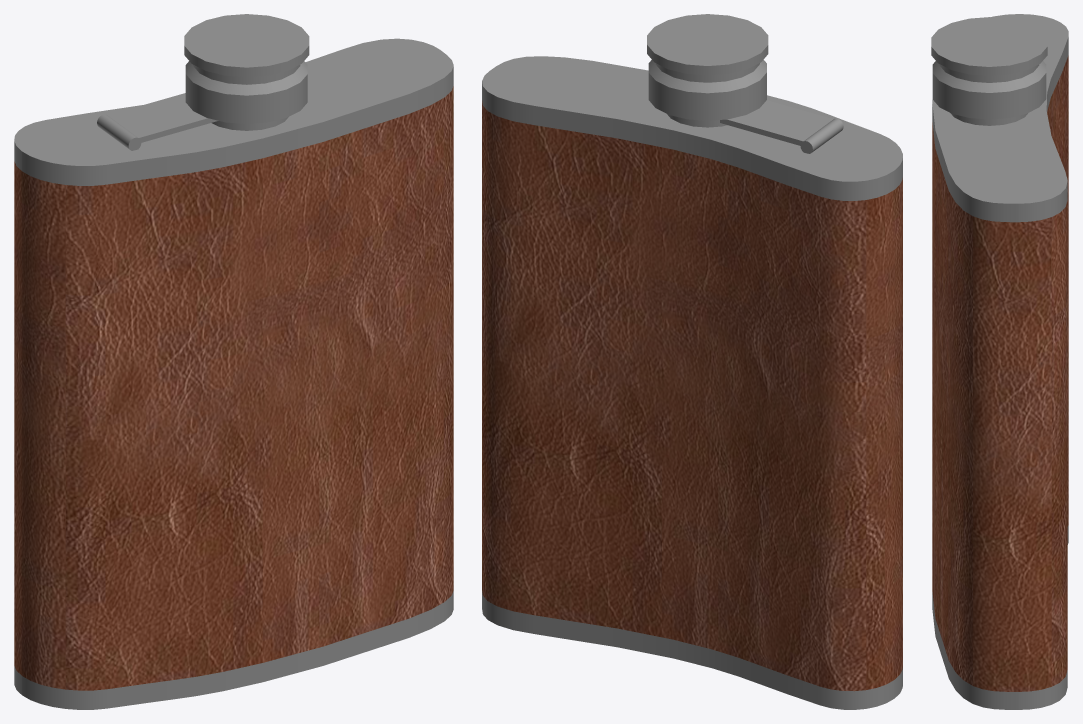
The model's file is Liqueur.FBX.
The picture shows the model from 3 angles, left to right: view 1: azimuth 30°, elevation 25°; view 2: azimuth 150°, elevation 25°; view 3: azimuth 270°, elevation 25°; orthographic projection. The views are drawn at different scales.
Visible parts, largest first — view 1: liqueur; view 2: liqueur; view 3: liqueur.
Part boxes in pixels (<box>): liqueur: <box>14,14,453,709</box>; liqueur: <box>482,14,902,709</box>; liqueur: <box>931,14,1068,709</box>.
Size of the model in its own units: 10.17 by 14.32 by 3.12.
Materials: 2 (1 with a texture image).
